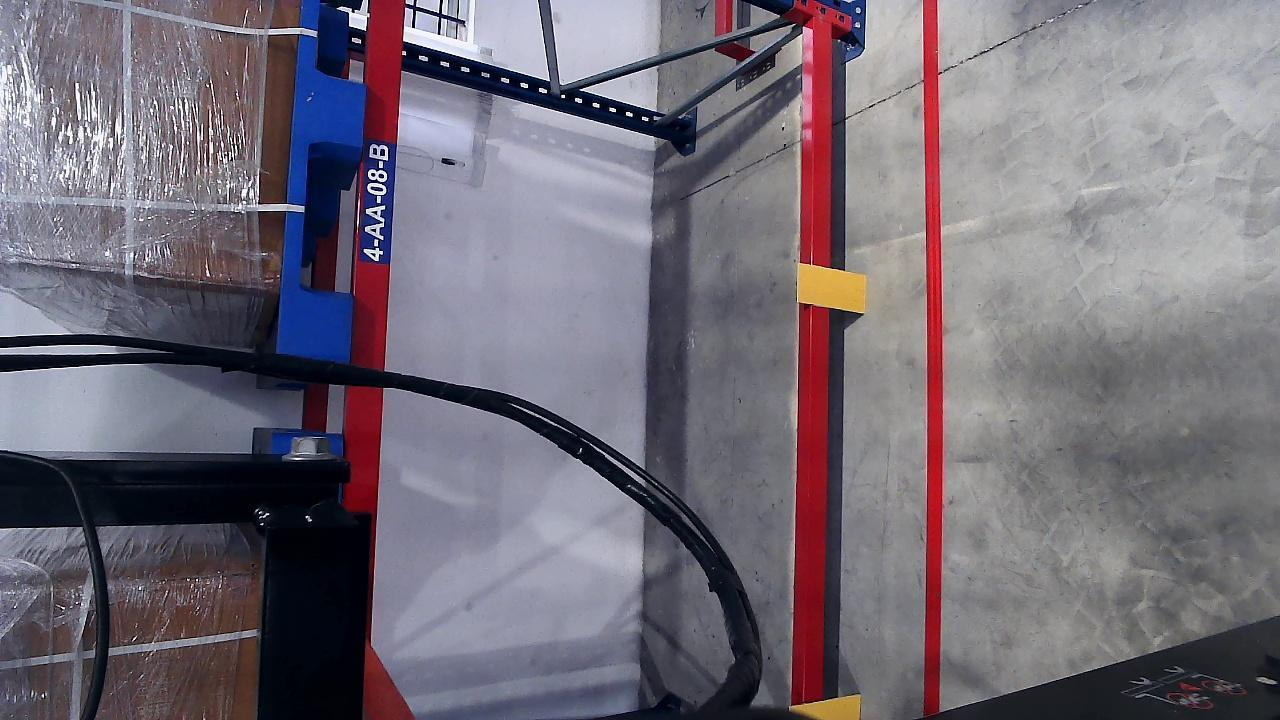red_line: (916, 0, 947, 710)
